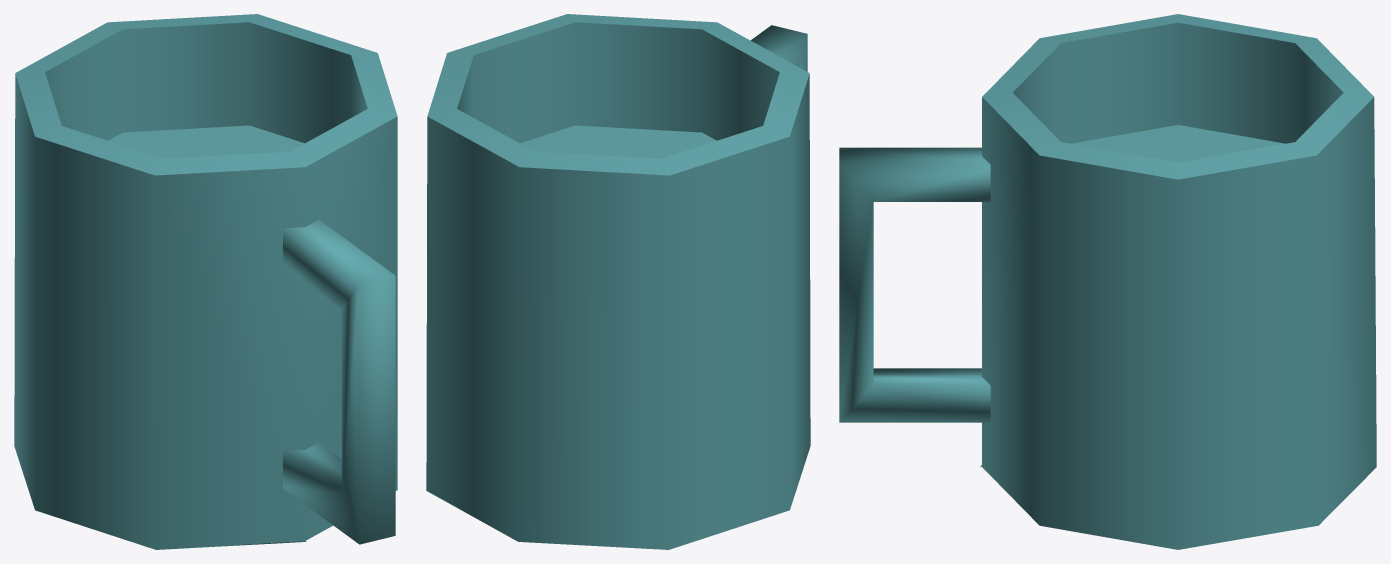
File: koppu.fbx
The picture shows the model from 3 angles, left to right: view 1: azimuth 30°, elevation 25°; view 2: azimuth 150°, elevation 25°; view 3: azimuth 270°, elevation 25°; orthographic projection.
Visible parts, largest first — view 1: pCylinder1, pCube3; view 2: pCylinder1, pCube3; view 3: pCylinder1, pCube3.
Boxes of the visible parts, <box> form: pCylinder1: <box>14,14,397,549</box>; pCube3: <box>283,220,395,544</box>; pCylinder1: <box>426,14,810,549</box>; pCube3: <box>751,25,807,71</box>; pCylinder1: <box>980,14,1376,549</box>; pCube3: <box>839,147,990,422</box>.
Bounding box in the file's own units: 0.1248 × 0.1315 × 0.1711.
